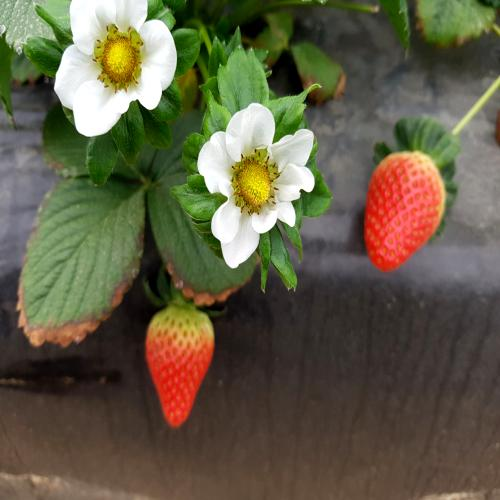ripe: (367, 146, 444, 275), (154, 308, 214, 421)
